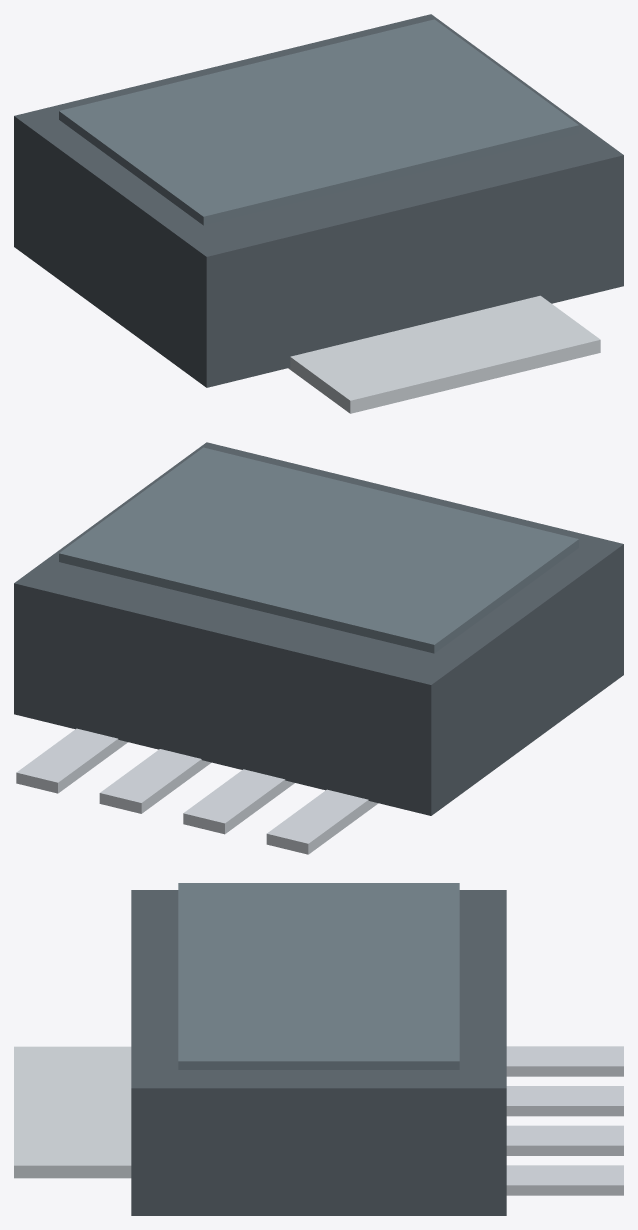
3 renders of one model, top to bottom at view 1: azimuth 30°, elevation 25°; view 2: azimuth 150°, elevation 25°; view 3: azimuth 270°, elevation 25°, orthographic. The views are drawn at different scales.
Parts seen in each view (by area): view 1: black_ic__PSMAT__black_ic, heat_sink_black__PSMAT__heat_sink_black, tin__PSMAT__tin; view 2: black_ic__PSMAT__black_ic, heat_sink_black__PSMAT__heat_sink_black, silver__PSMAT__silver; view 3: black_ic__PSMAT__black_ic, heat_sink_black__PSMAT__heat_sink_black, tin__PSMAT__tin, silver__PSMAT__silver.
Boxes of the visible parts, <box> form: black_ic__PSMAT__black_ic: <box>14,14,623,387</box>; heat_sink_black__PSMAT__heat_sink_black: <box>59,19,578,225</box>; tin__PSMAT__tin: <box>288,295,600,413</box>; black_ic__PSMAT__black_ic: <box>14,442,623,815</box>; heat_sink_black__PSMAT__heat_sink_black: <box>59,447,578,653</box>; silver__PSMAT__silver: <box>16,728,377,854</box>; black_ic__PSMAT__black_ic: <box>131,890,506,1215</box>; heat_sink_black__PSMAT__heat_sink_black: <box>178,883,459,1069</box>; tin__PSMAT__tin: <box>14,1046,131,1178</box>; silver__PSMAT__silver: <box>506,1046,623,1195</box>.
Bounding box in the file's own units: 0.01 × 0.00363 × 0.013.
